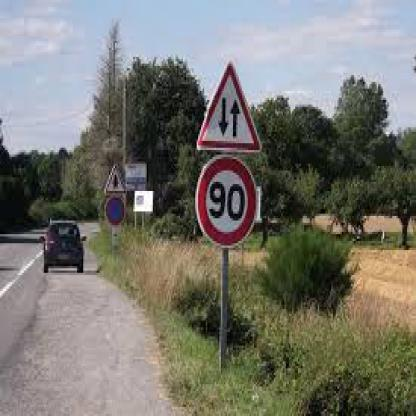Speed Limit 90: (197, 154, 257, 246)
